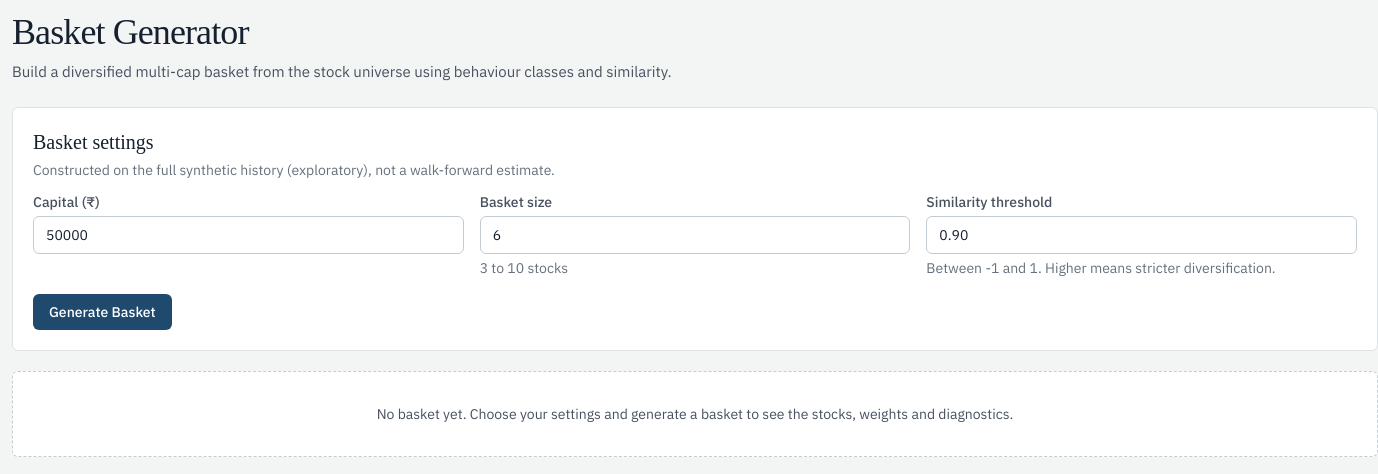
Test: Basket page › shows the backend's message for a rejected basket, with no internals
This screenshot has width=1378, height=474.
Click the button "Generate Basket" at (102, 312), box [33,294,172,330]
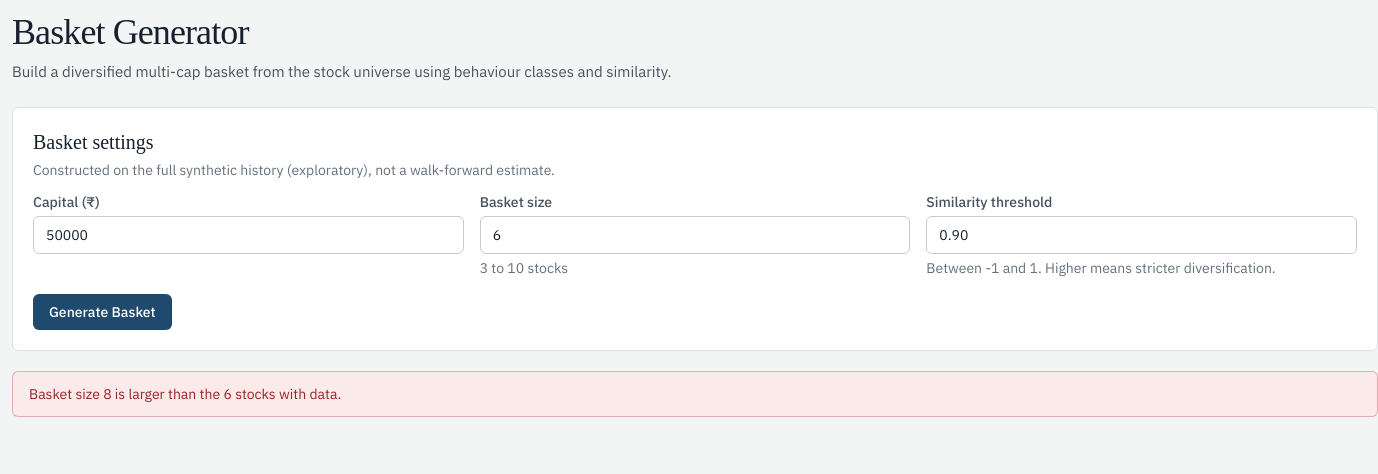
expect the text "Basket size 8 is larger than the 6 stocks with data." is shown: met, box [29,385,341,403]
